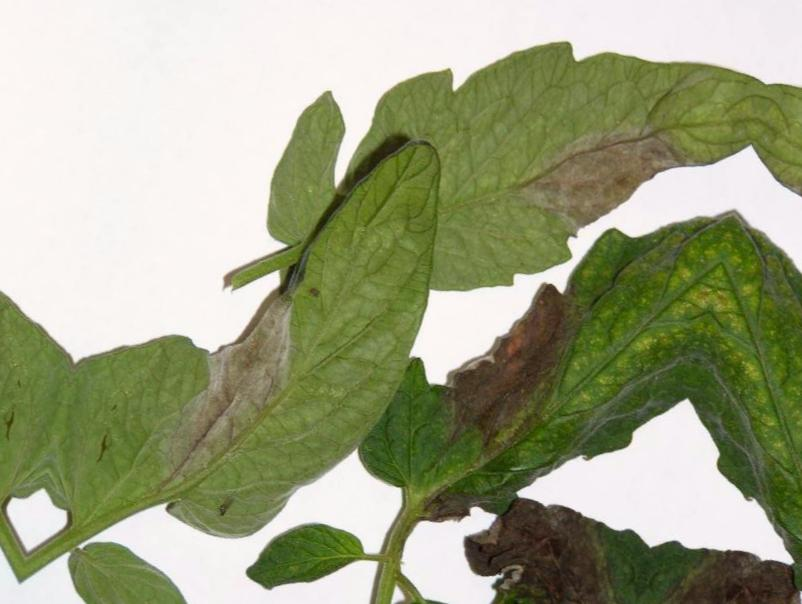Tomato leaf late blight: (44, 79, 473, 599), (253, 0, 770, 394), (356, 133, 734, 569)
